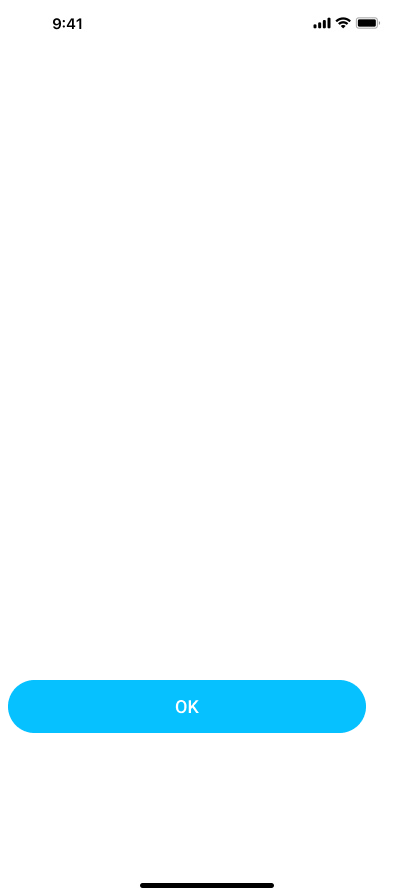Buttons: (8, 680, 366, 733)
Home Indicator: (0, 862, 414, 896)
Status Bar: (0, 0, 414, 44)
